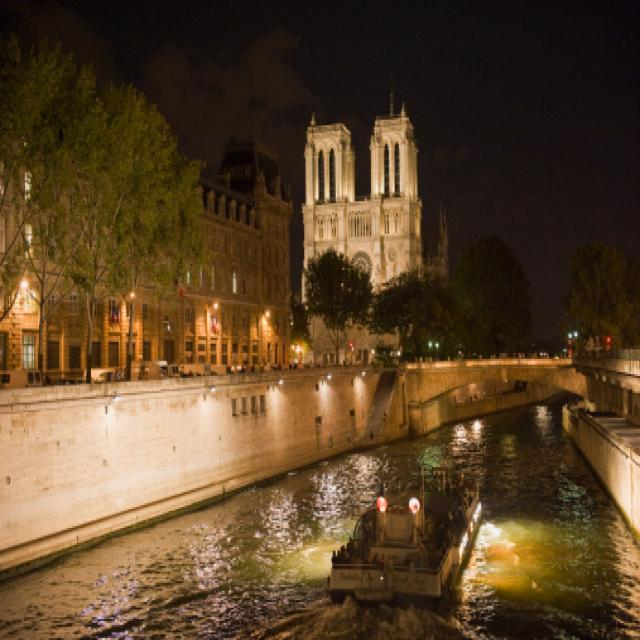Boat: (335, 473, 531, 640)
